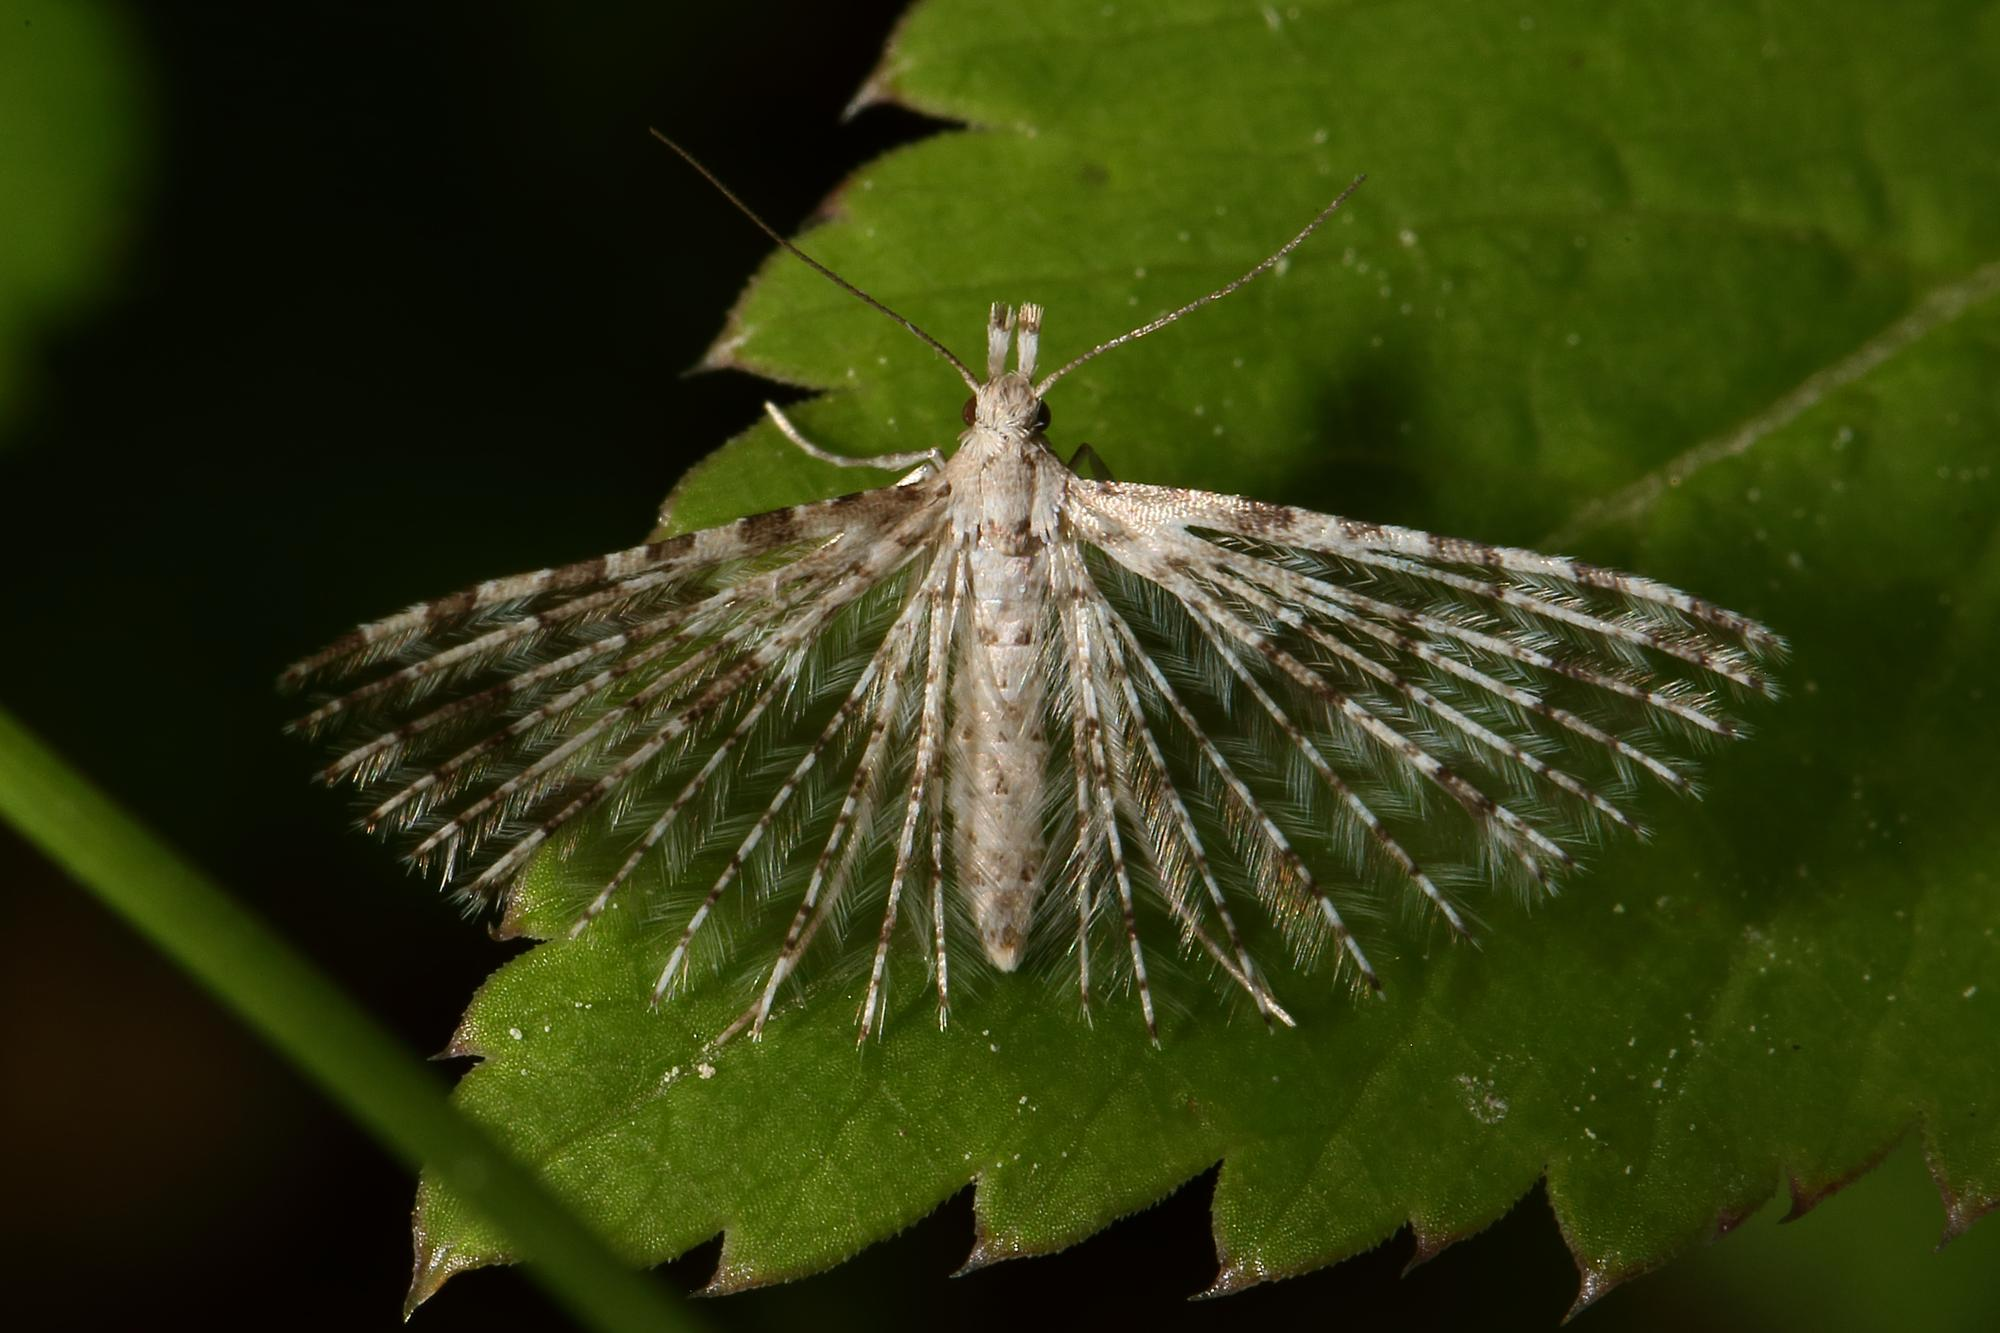Alucitidae: (253, 118, 1814, 1067)
moth: (251, 115, 1813, 1065)
